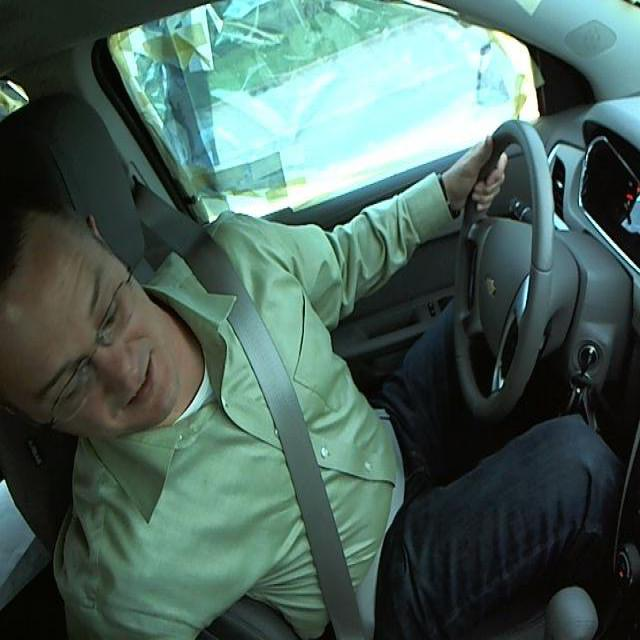seatbelt: (189, 264, 399, 639)
